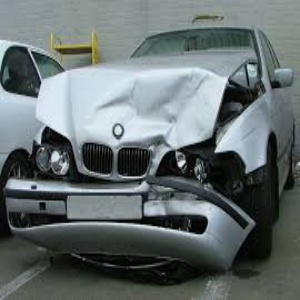bonnet: (58, 57, 232, 130)
bumper: (11, 173, 258, 276)
